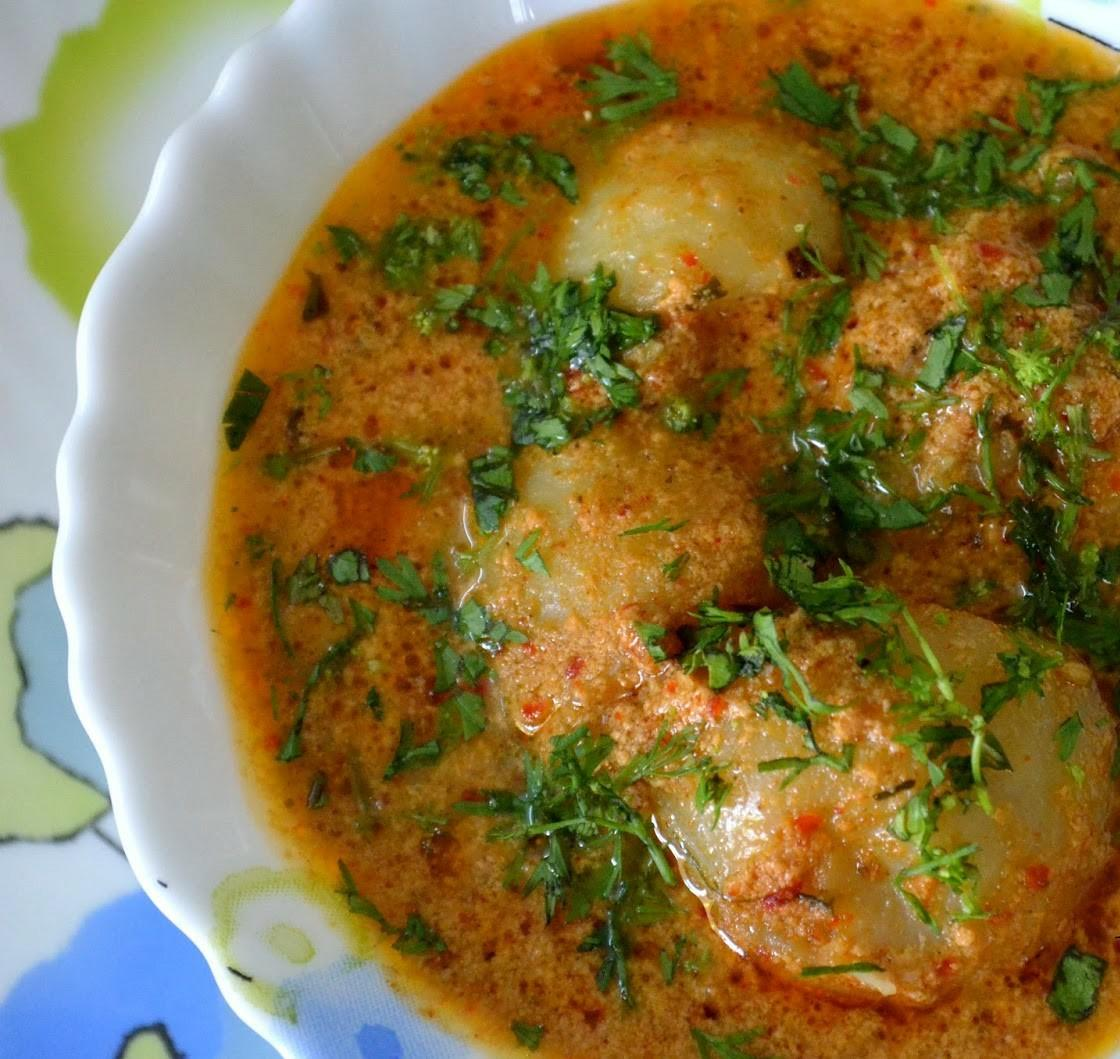DumAloo: (201, 2, 1120, 1059)
